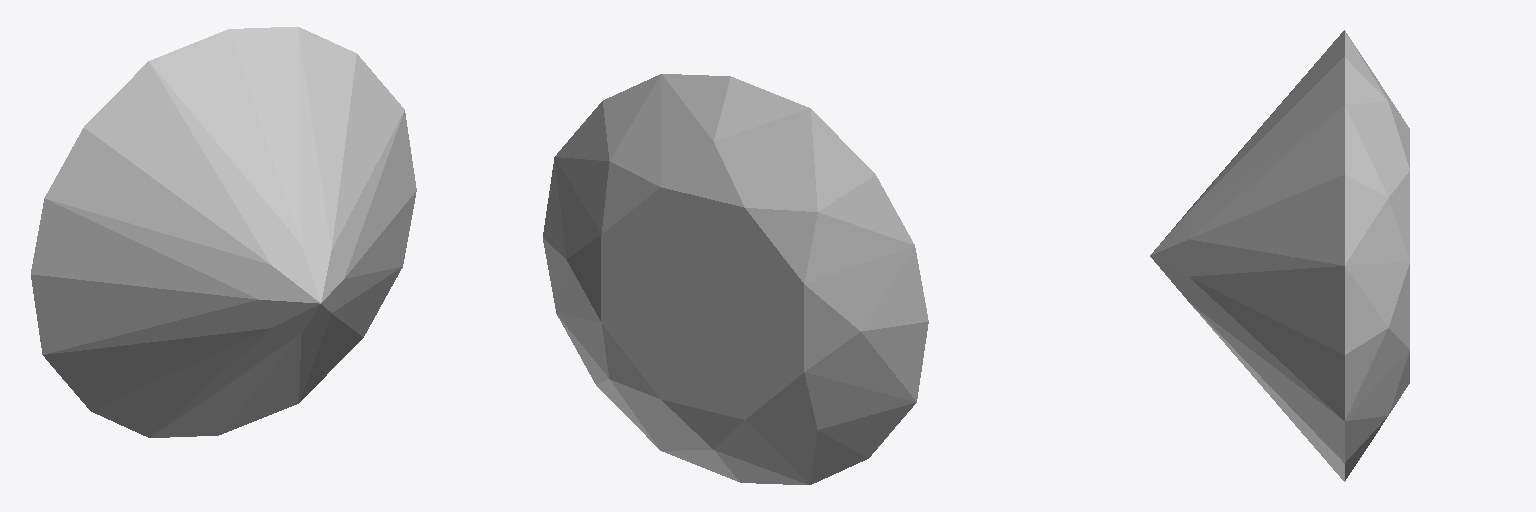
The model's file is newdiamond.obj.
The picture shows the model from 3 angles: view 1: azimuth 30°, elevation 25°; view 2: azimuth 150°, elevation 25°; view 3: azimuth 270°, elevation 25°; orthographic projection.
Bounding box in the file's own units: 1.97 × 1.97 × 1.15.